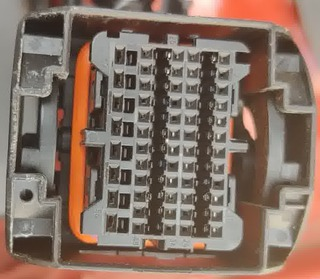connector: (5, 6, 317, 275)
